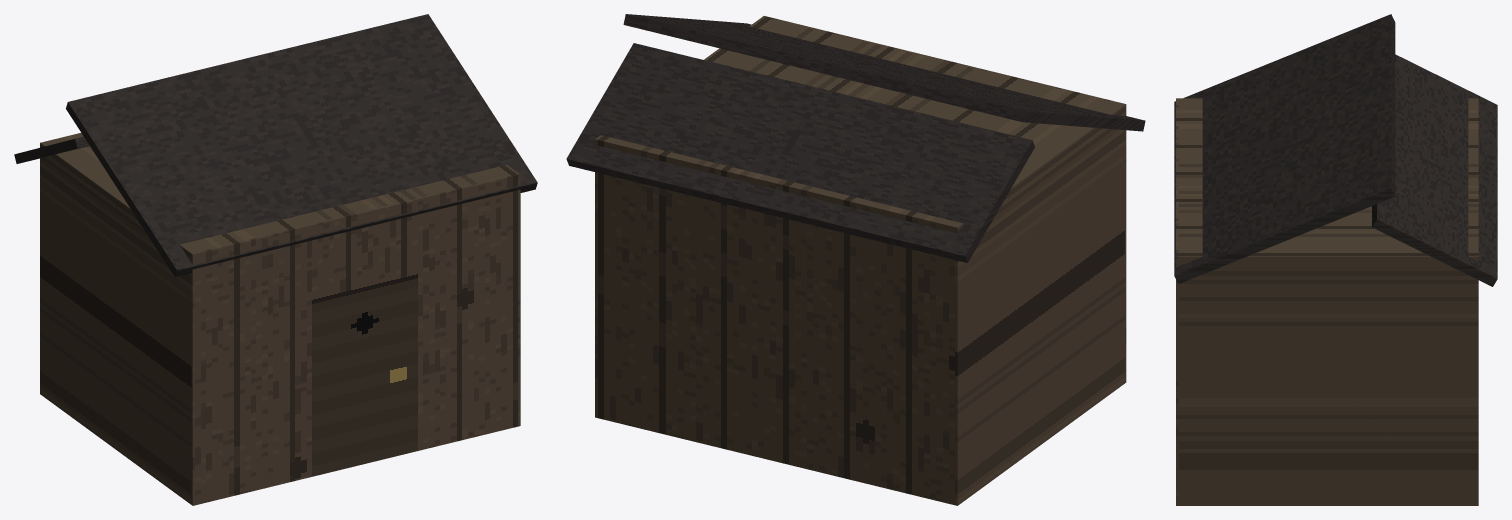
Rendered from shed.glb.
3 views of the same model, side by side, from view 1: azimuth 30°, elevation 25°; view 2: azimuth 150°, elevation 25°; view 3: azimuth 270°, elevation 25° (orthographic). The views are drawn at different scales.
Visible parts, largest first — view 1: shed, front; view 2: shed, front; view 3: shed, front.
Boxes of the visible parts, x1,y1,x2,y2 form: shed: (14, 14, 537, 504); front: (191, 173, 520, 505); shed: (566, 14, 1145, 505); front: (763, 16, 1126, 382); shed: (1174, 14, 1497, 505); front: (1176, 98, 1178, 505).
Bounding box in the file's own units: 3.3 × 2.87 × 2.59.
1 material, 1 textured.
